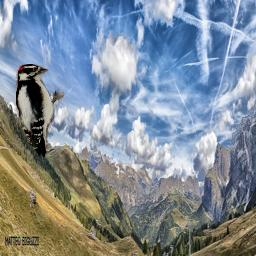Woodpecker: (16, 64, 64, 157)
